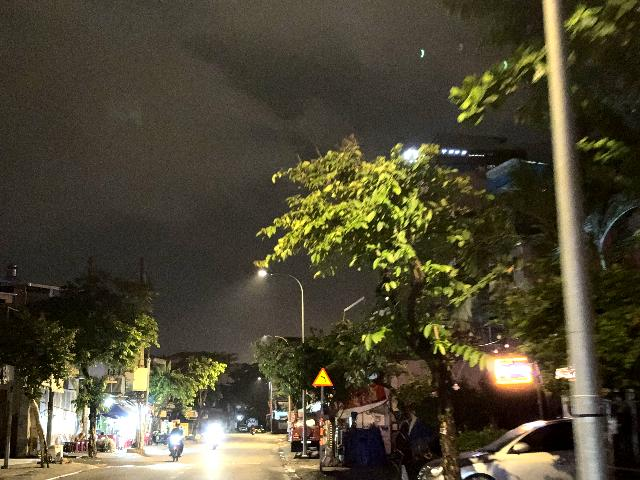cho-ngoat-nguy-hiem-ben-trai: (312, 367, 333, 387)
